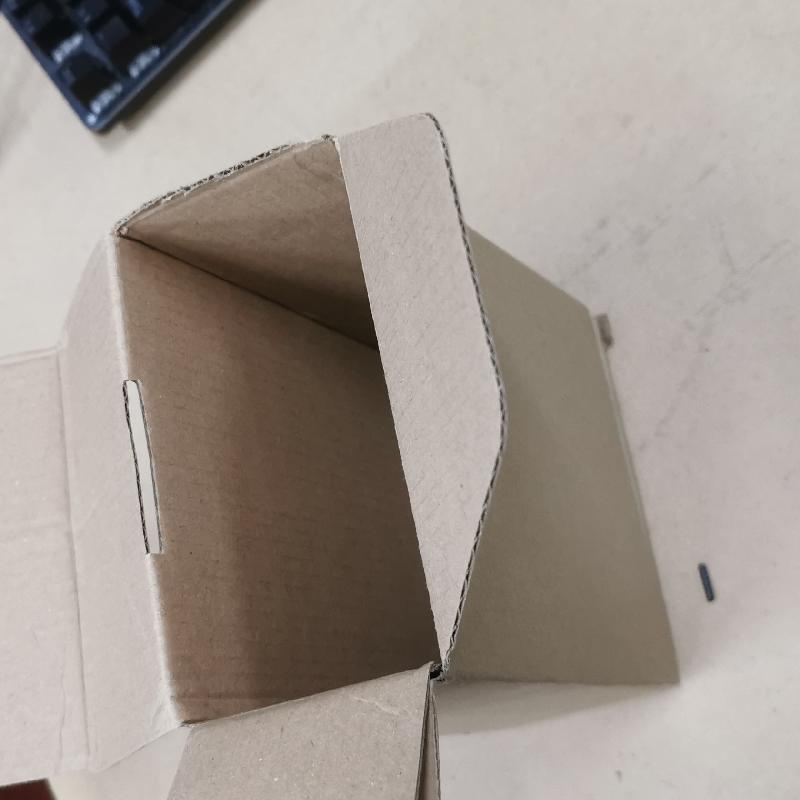boxes: (10, 121, 705, 800)
